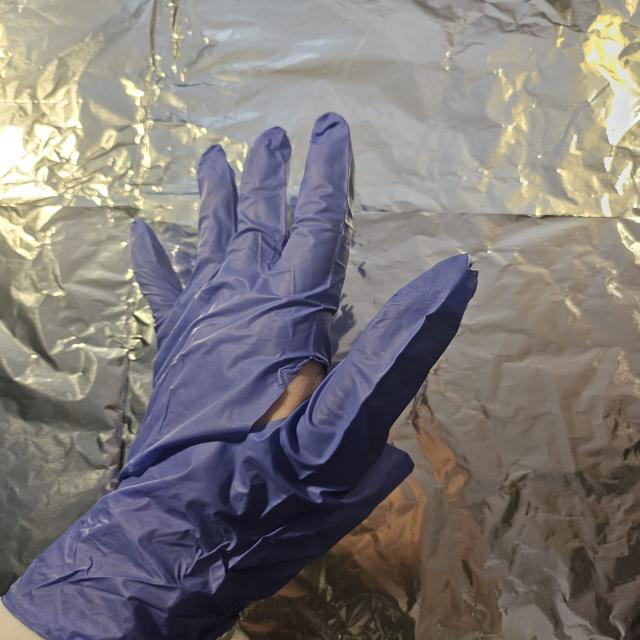gloves_damaged: (14, 106, 477, 640)
